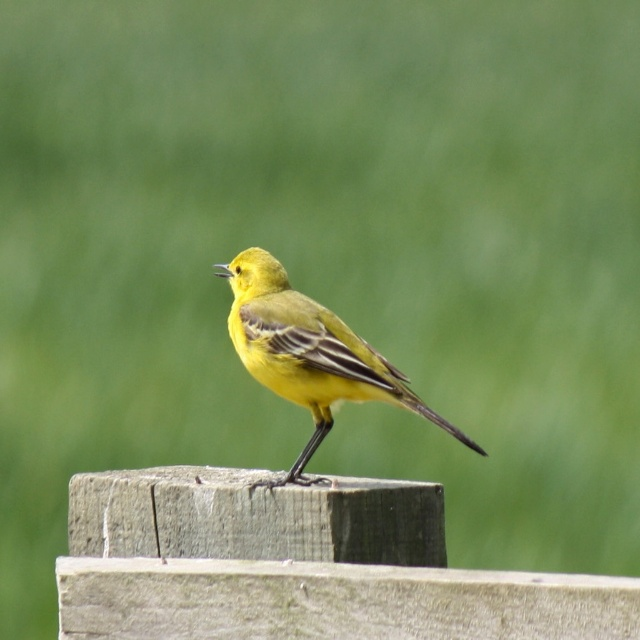Canary: (212, 246, 490, 493)
